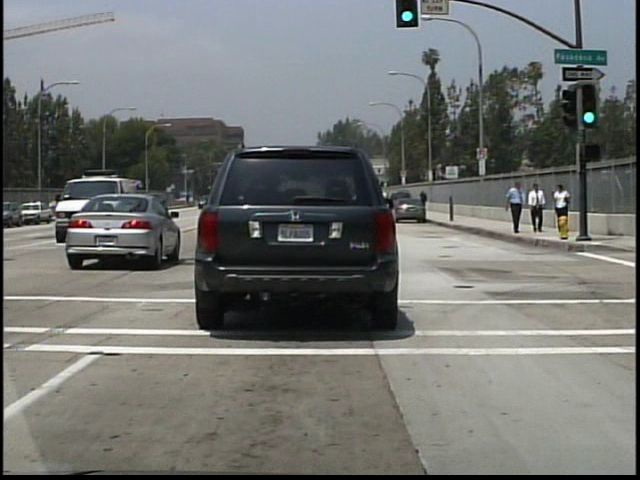person: (505, 177, 526, 236), (529, 181, 550, 233), (552, 181, 574, 217), (418, 187, 430, 214)
